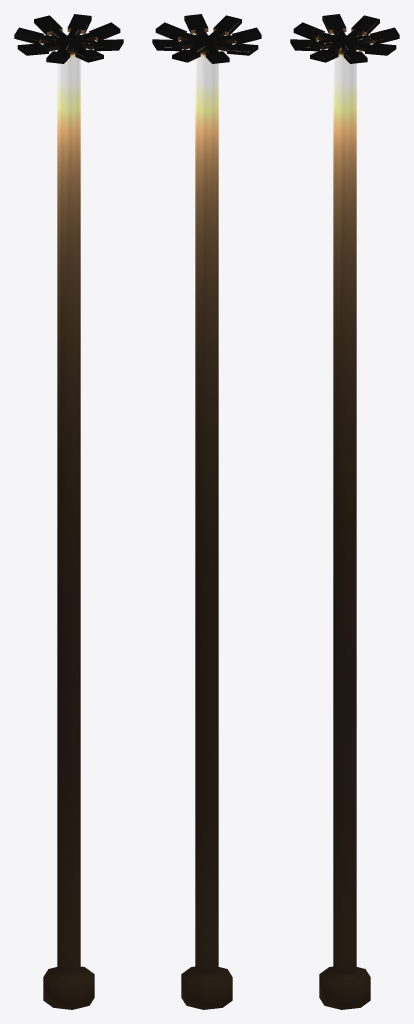
Rendered from floodlight.glb.
3 views of the same model, side by side, from view 1: azimuth 30°, elevation 25°; view 2: azimuth 150°, elevation 25°; view 3: azimuth 330°, elevation 25° (orthographic).
Visible parts, largest first — view 1: Flooodlight; view 2: Flooodlight; view 3: Flooodlight.
Part boxes in pixels (x1,y1,x2,y2): Flooodlight: (14,14,123,1009); Flooodlight: (152,14,261,1009); Flooodlight: (290,14,399,1009).
Size of what is drawn, in the model's own units: 1.25 by 12.3 by 1.25.
Materials: 2 (1 with a texture image).
